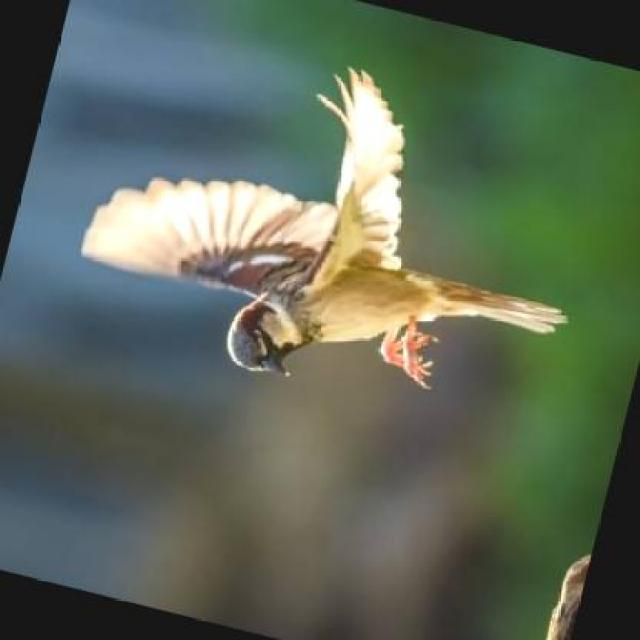Bird: (82, 60, 598, 416)
